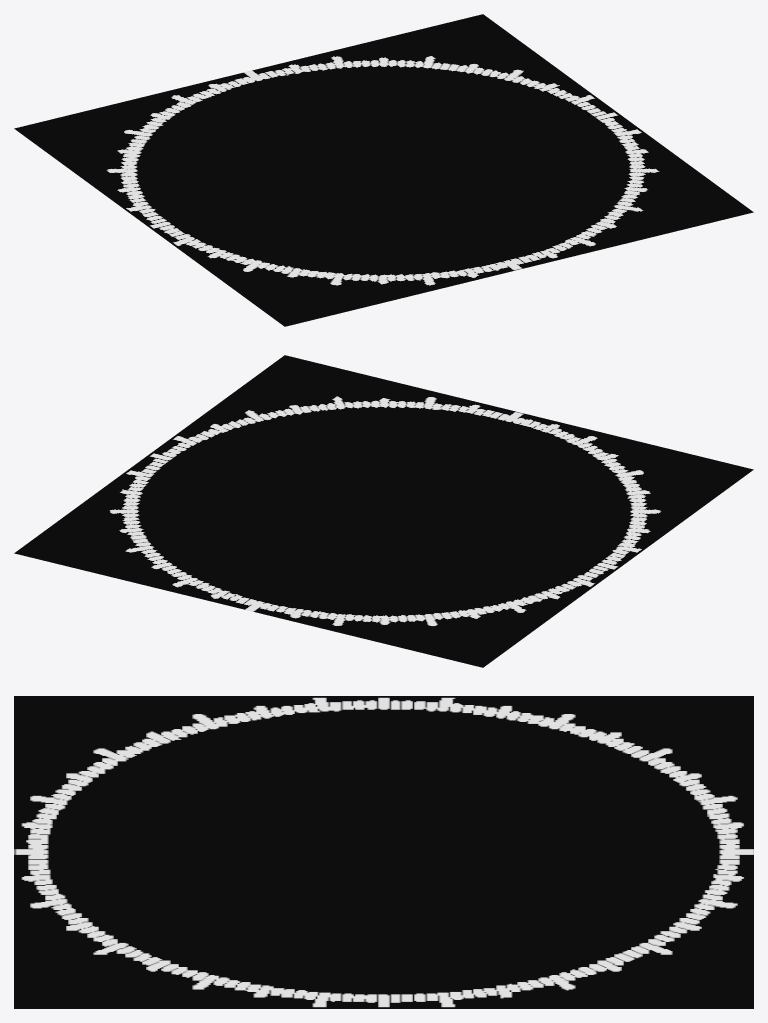
Rendered from bridge.glb.
3 views of the same model, one above another, from view 1: azimuth 30°, elevation 25°; view 2: azimuth 150°, elevation 25°; view 3: azimuth 270°, elevation 25° (orthographic). The views are drawn at different scales.
Parts seen in each view (by area): view 1: CIRCLE - TIME; view 2: CIRCLE - TIME; view 3: CIRCLE - TIME.
Part boxes in pixels (x1,y1,x2,y2): CIRCLE - TIME: [14, 14, 753, 326]; CIRCLE - TIME: [14, 355, 753, 667]; CIRCLE - TIME: [14, 696, 753, 1008].
Size of what is drawn, in the model's own units: 8 by 0.2 by 8.
Materials: 3 (3 with a texture image).
